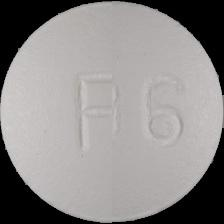53808-1002: (0, 0, 224, 224)
